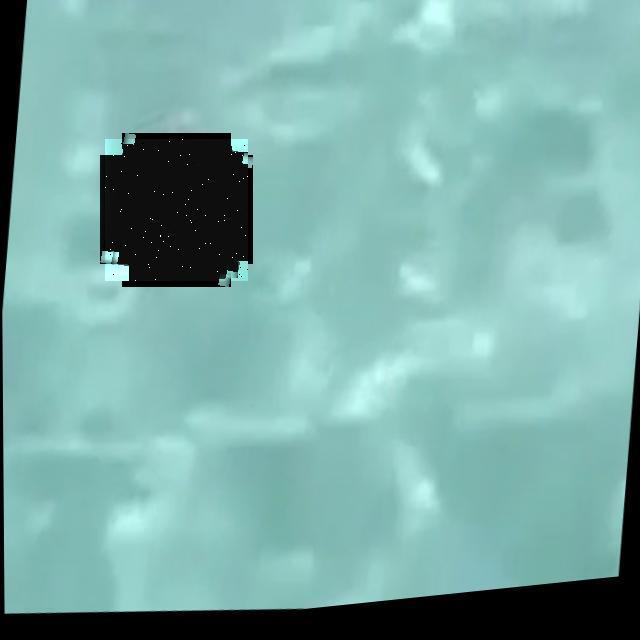swimming: (105, 139, 248, 281)
